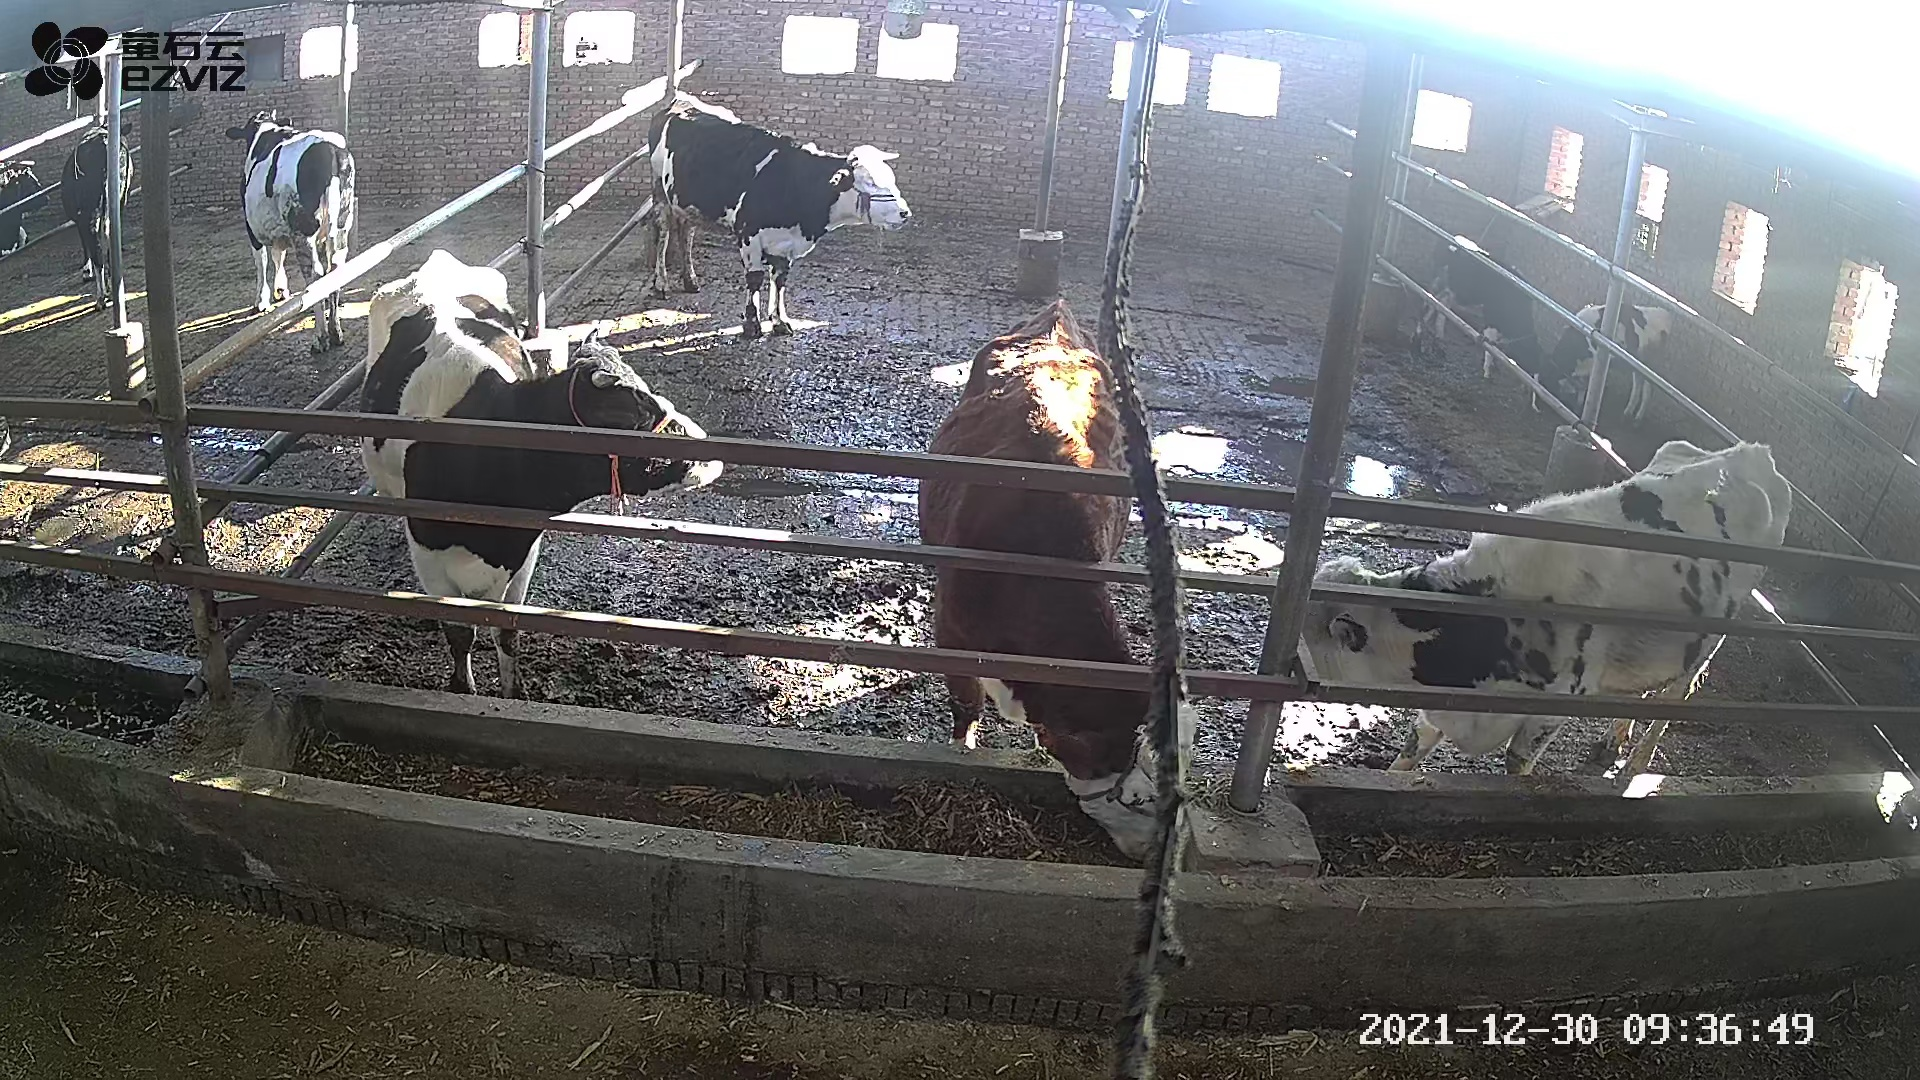cow: (1302, 438, 1792, 777), (356, 251, 724, 702), (911, 295, 1162, 862), (647, 86, 914, 338)
